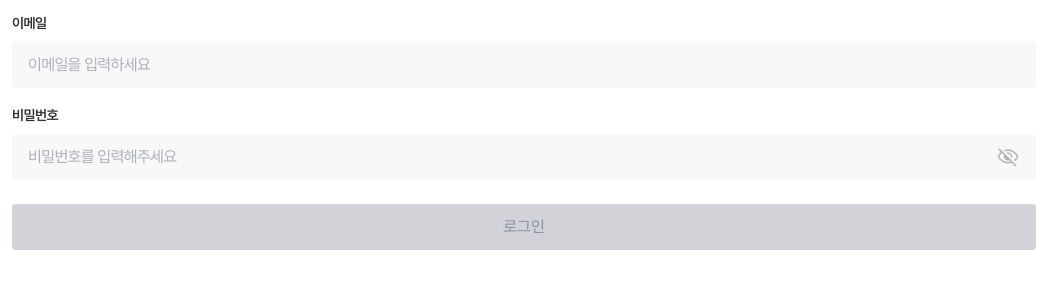
Test: SigninForm › 비밀번호를 잘못 입력하면 "비밀번호를 8자 이상 입력해주세요" 라는 에러 메시지 확인
Type "test1234@naver.com" into the field with placeholder "이메일을 입력하세요" at (524, 65), box [12,42,1036,88]
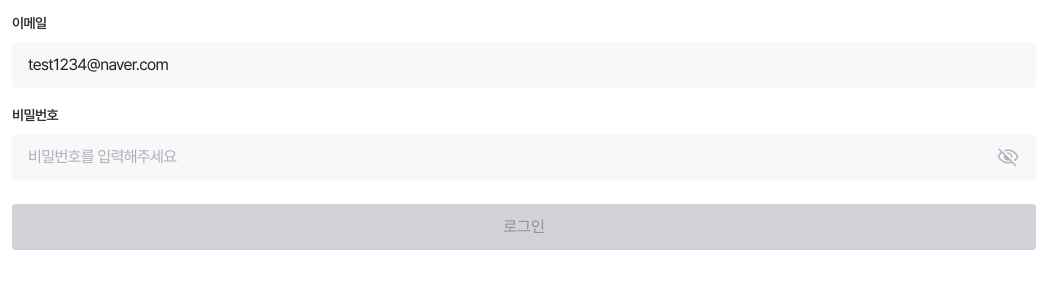
Type "pass" into the password field with placeholder "비밀번호를 입력해주세요" at (524, 157), box [12,134,1036,180]
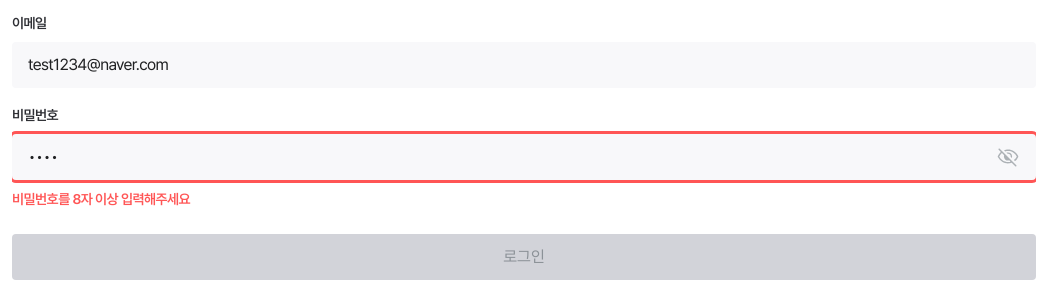
Check: the text "비밀번호를 8자 이상 입력해주세요" is shown, box [12,191,190,207]
